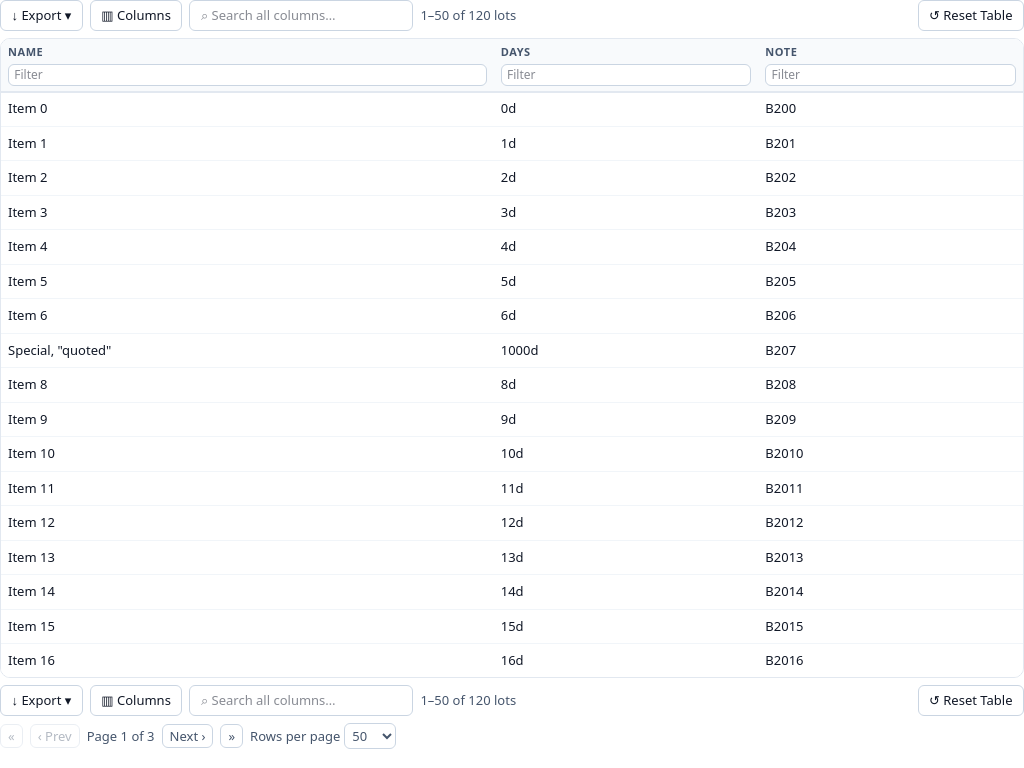
F18-FR-01: every header has an always-visible filter box that narrows on the displayed text
In the field named "Filter Name": (247, 75) x1=8 y1=64 x2=487 y2=86, type "item 11"
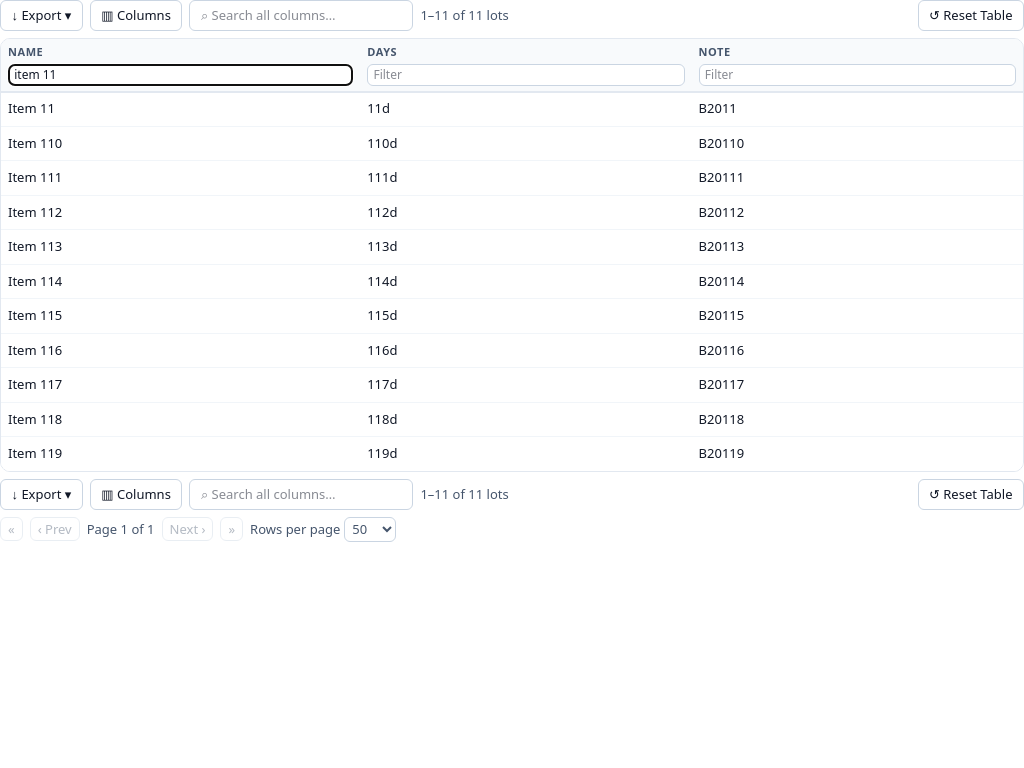
Expected: the field named "Filter Days" is shown, x1=367 y1=64 x2=685 y2=86
Expected: the text with test id "page-summary" reads "1–11 of 11 lots", x1=420 y1=6 x2=509 y2=25
